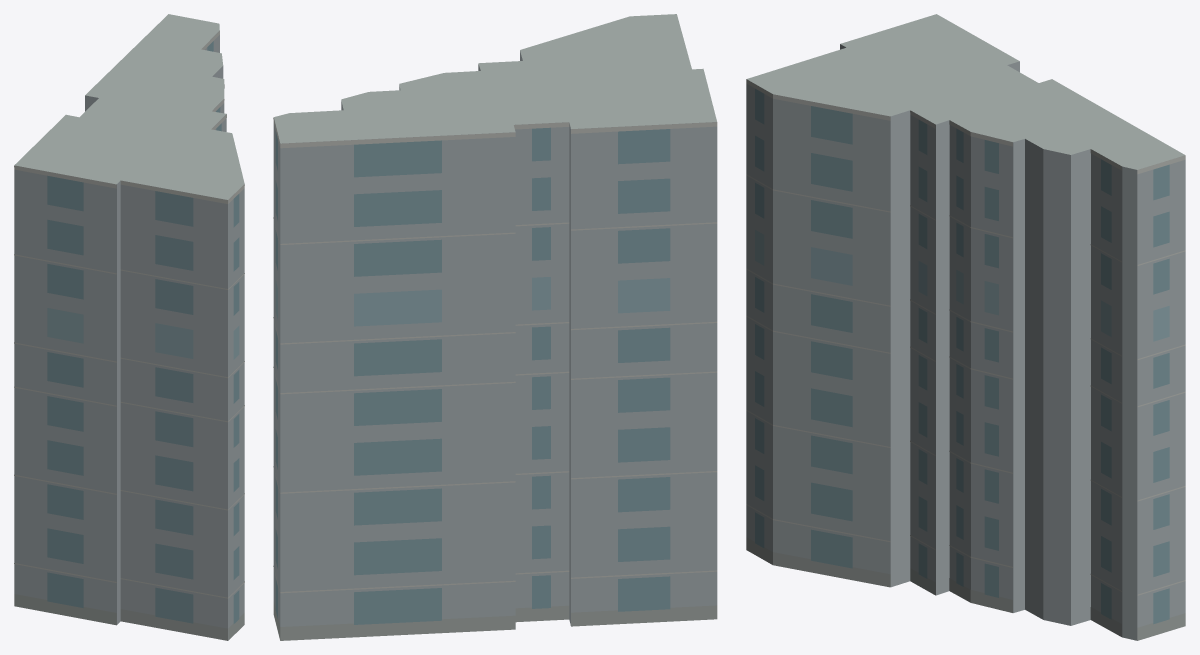
File: survey-upis-32995494.glb
3 views of the same model, side by side, from view 1: azimuth 30°, elevation 25°; view 2: azimuth 150°, elevation 25°; view 3: azimuth 270°, elevation 25° (orthographic). The views are drawn at different scales.
Visible parts, largest first — view 1: survey-upis-32995494.tmp; view 2: survey-upis-32995494.tmp; view 3: survey-upis-32995494.tmp.
Boxes of the visible parts, bbox=[...] form: survey-upis-32995494.tmp: bbox=[14, 14, 244, 640]; survey-upis-32995494.tmp: bbox=[273, 14, 717, 640]; survey-upis-32995494.tmp: bbox=[746, 14, 1185, 640].
Bounding box in the file's own units: 18.27 × 25.7 × 21.74.
